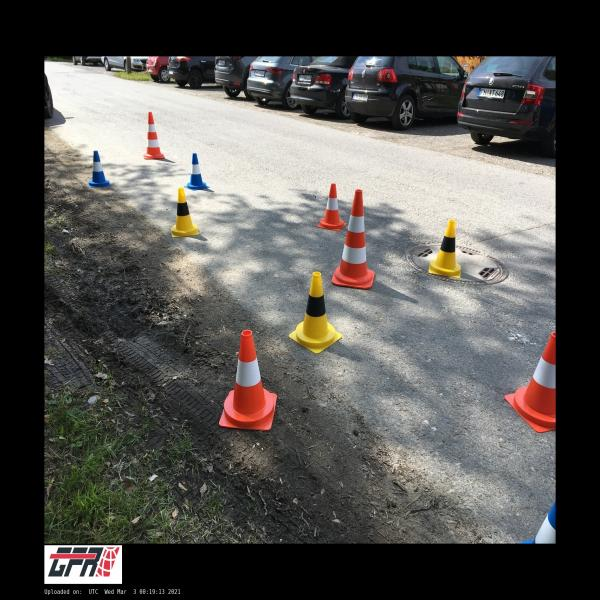blue_cone: (520, 502, 556, 544), (184, 152, 210, 191), (88, 150, 112, 188)
large_orange_cone: (332, 189, 375, 289), (143, 112, 164, 160)
orange_cone: (219, 330, 277, 430), (504, 332, 556, 433), (316, 183, 346, 230)
yellow_cone: (289, 272, 342, 354), (428, 219, 461, 278), (171, 188, 199, 237)
